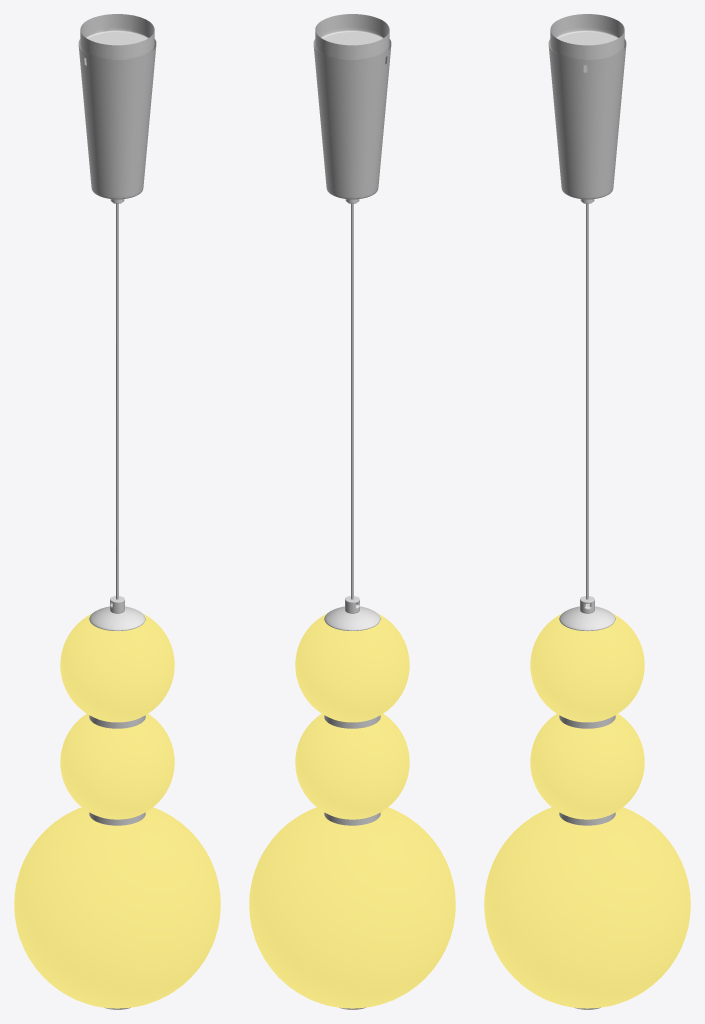
Rendered from lamp.glb.
3 renders of one model, left to right at view 1: azimuth 30°, elevation 25°; view 2: azimuth 150°, elevation 25°; view 3: azimuth 270°, elevation 25°, orthographic.
Visible parts, largest first — view 1: plafon, metal; view 2: plafon, metal; view 3: plafon, metal.
Part boxes in pixels (x1,y1,x2,y2): plafon: (14, 614, 220, 1008); metal: (78, 14, 156, 1009); plafon: (249, 614, 455, 1008); metal: (313, 14, 391, 1009); plafon: (484, 614, 690, 1008); metal: (548, 14, 626, 1009).
Bounding box in the file's own units: 0.1796 × 0.9346 × 0.1796.
